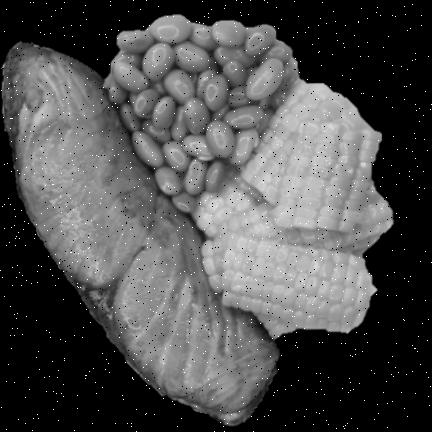corn: (189, 79, 393, 337)
fish: (2, 46, 278, 423)
peas: (106, 13, 296, 212)
